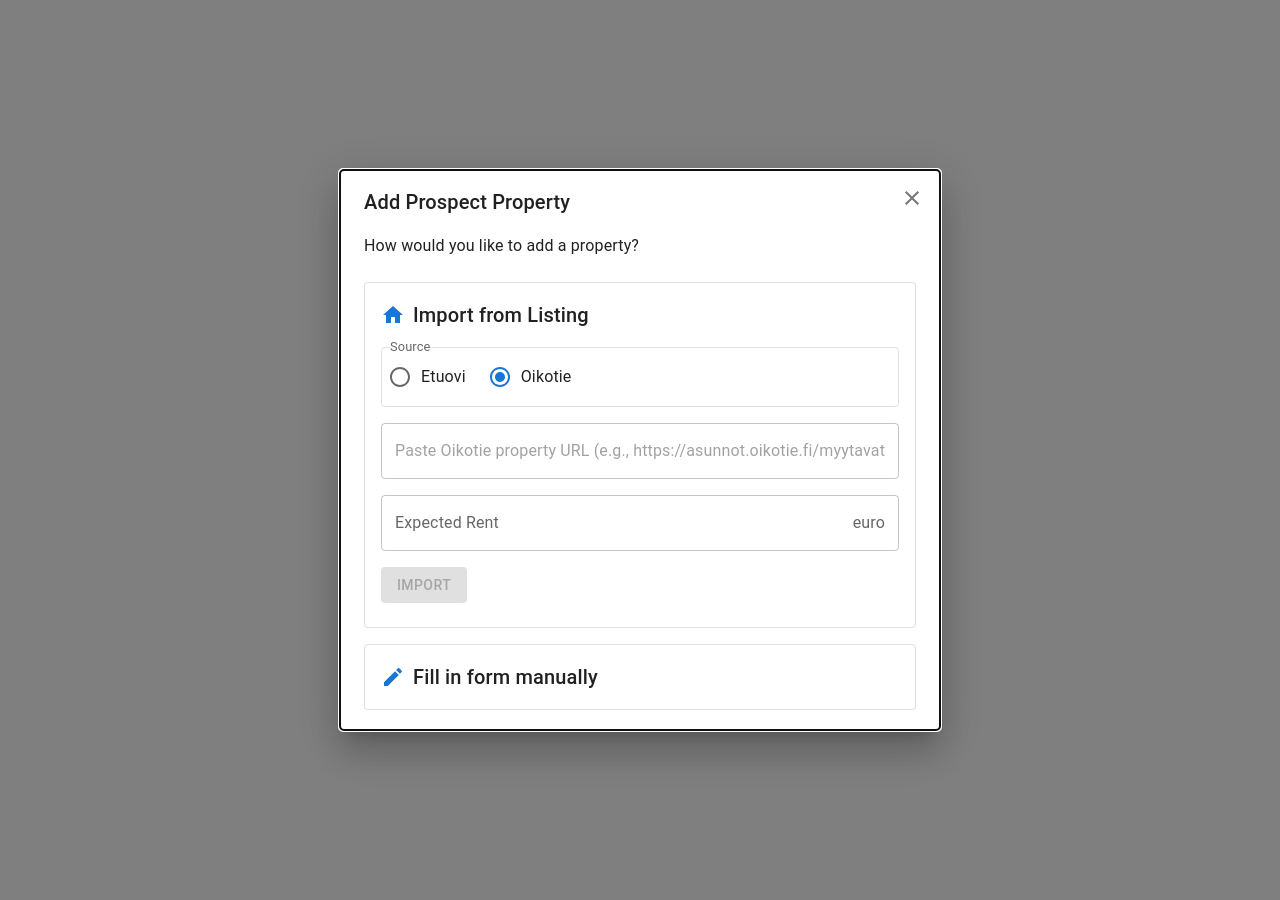
Test: ProspectAddChoiceDialog › Source Selector › can switch between Etuovi and Oikotie sources
This screenshot has width=1280, height=900.
Expected: the field with placeholder "Oikotie" is shown, [381, 423, 899, 479]
Select Etuovi radio
Click the radio button labelled "Etuovi" at (427, 377), box [388, 365, 466, 389]
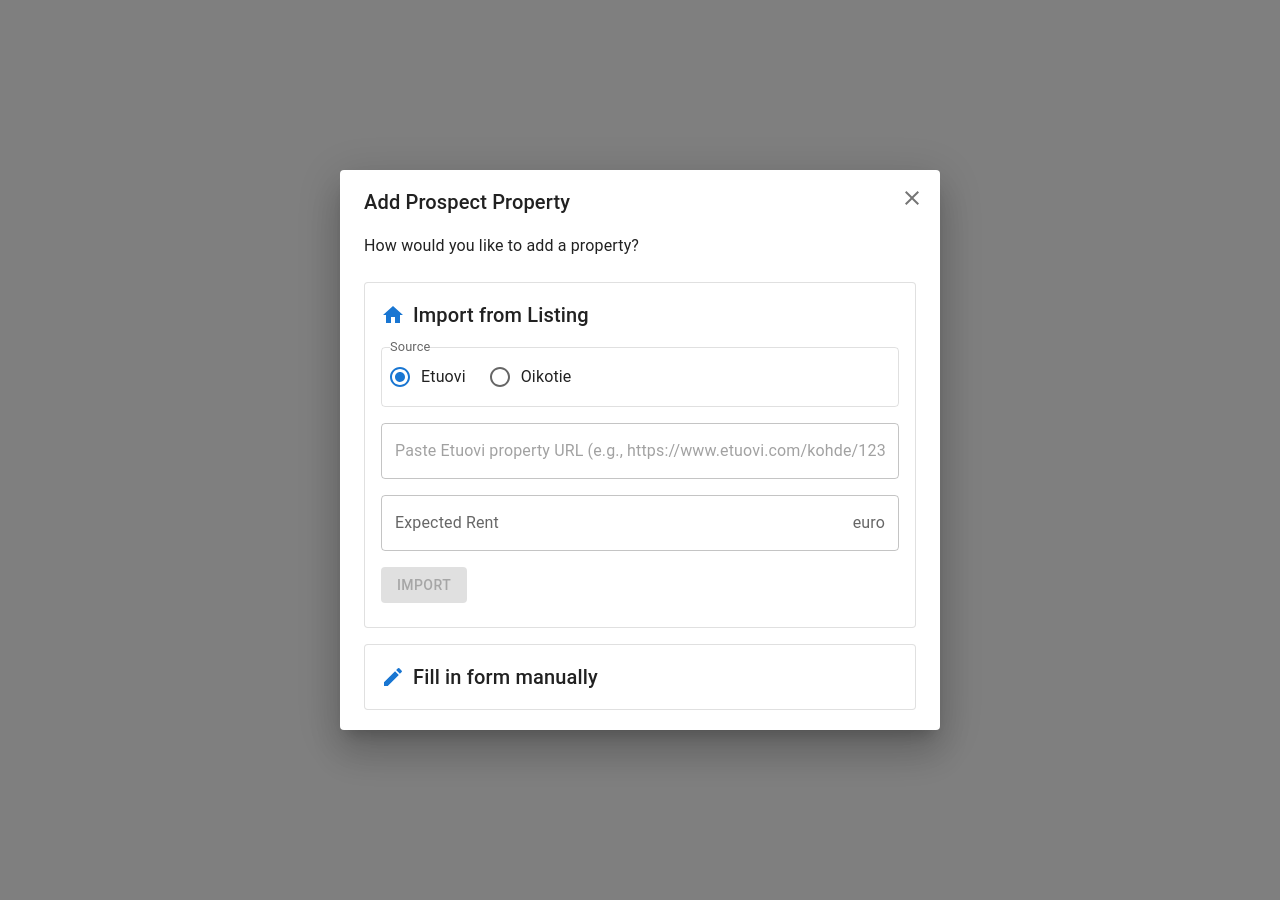
Expected: the field with placeholder "Etuovi" is shown, [381, 423, 899, 479]
